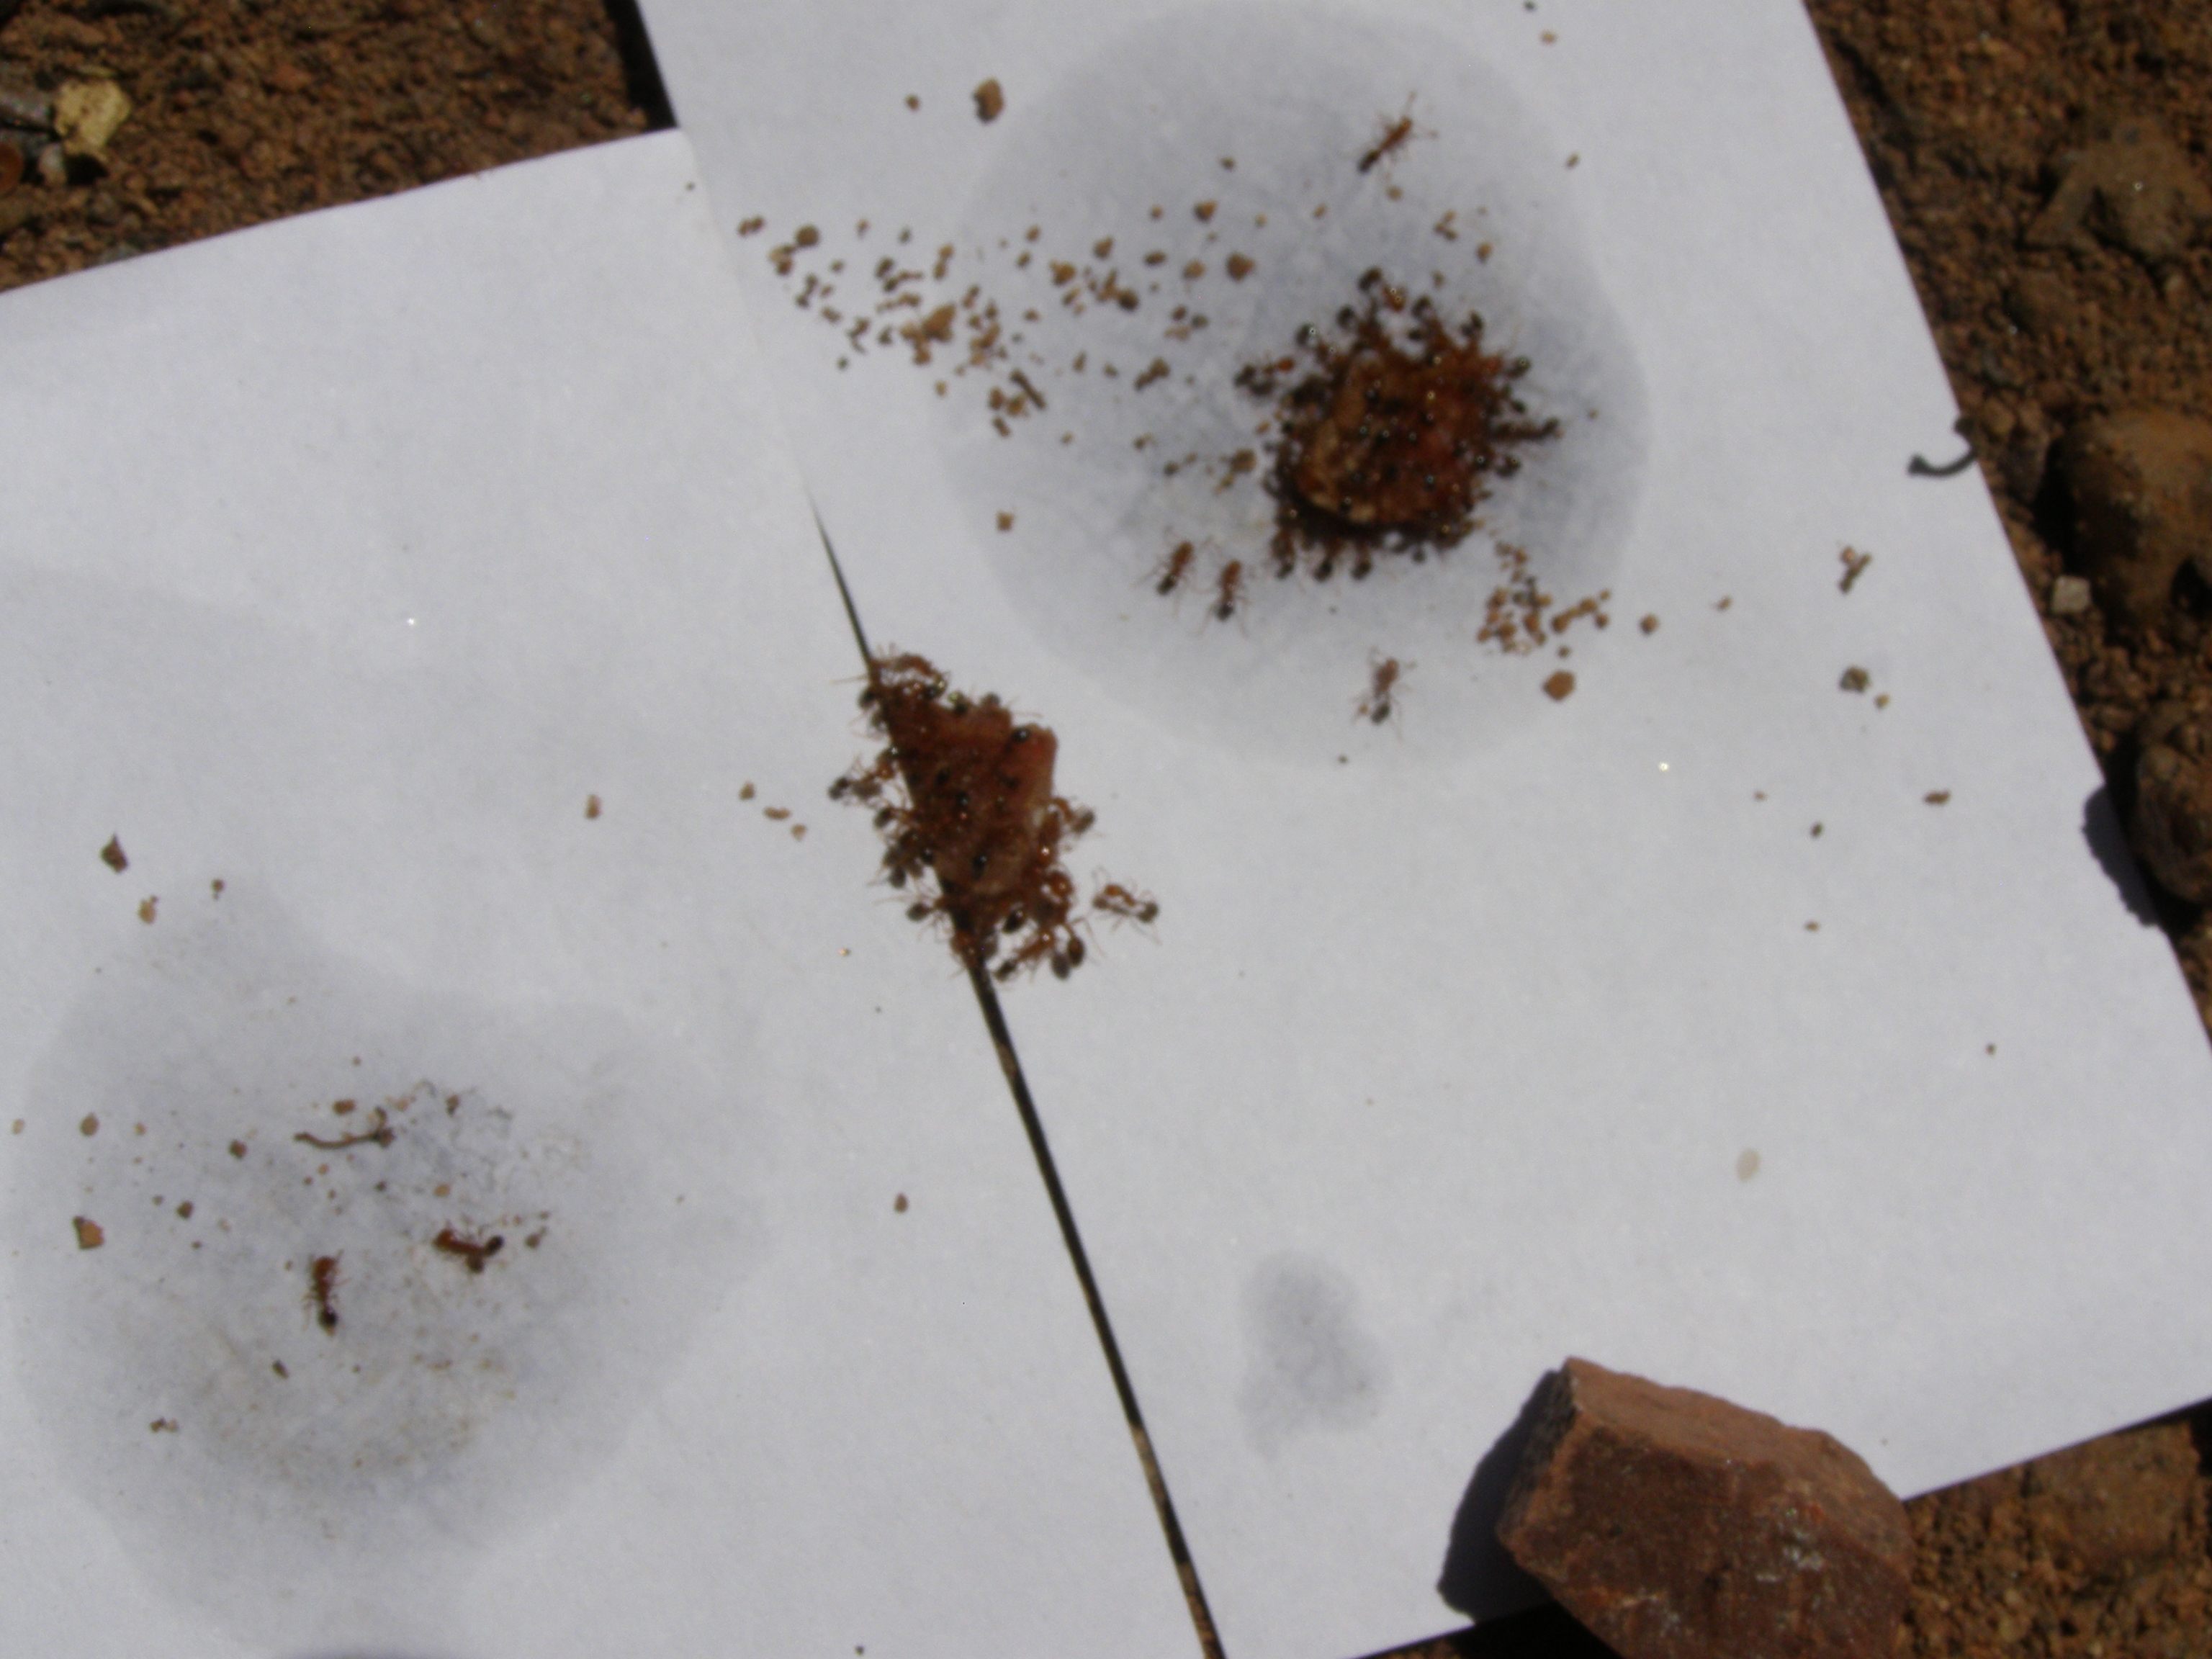Solenopsis_geminata: (270, 1223, 374, 1366)
